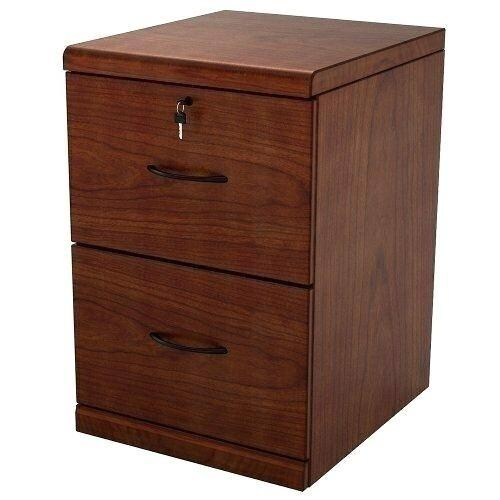cabinet_door: (73, 89, 311, 269), (78, 256, 309, 422)
handle: (148, 162, 231, 190), (152, 335, 232, 363)
